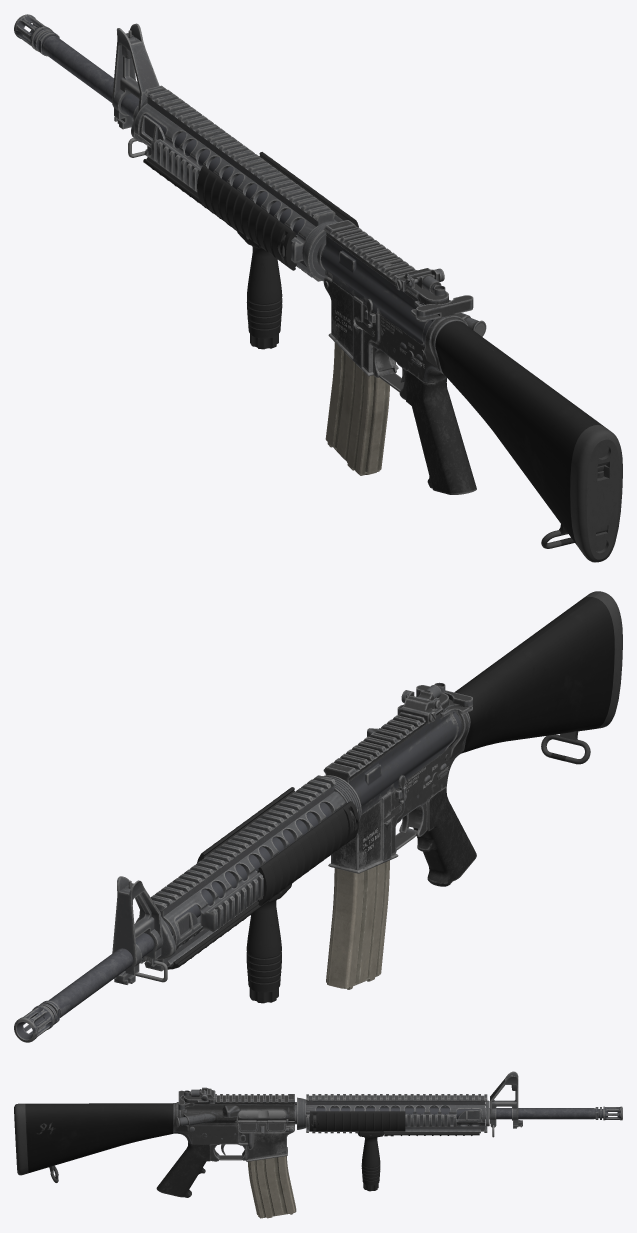
3 renders of one model, top to bottom at view 1: azimuth 30°, elevation 25°; view 2: azimuth 150°, elevation 25°; view 3: azimuth 270°, elevation 25°, orthographic. The views are drawn at different scales.
Parts seen in each view (by area): view 1: recievier, polySurface88, handguard1, polySurface83, polySurface90, polySurface87, polySurface84; view 2: handguard1, recievier, polySurface88, polySurface83, polySurface90, polySurface87, polySurface91, polySurface89, polySurface84; view 3: recievier, polySurface88, handguard1, polySurface83, polySurface84, polySurface87, polySurface91.
Boxes of the visible parts, x1,y1,x2,y2 form: recievier: [321, 220, 486, 494]; polySurface88: [435, 321, 622, 562]; handguard1: [14, 14, 343, 281]; polySurface83: [325, 314, 389, 475]; polySurface90: [197, 166, 296, 270]; polySurface87: [237, 230, 282, 349]; polySurface84: [259, 152, 358, 227]; handguard1: [14, 775, 361, 1042]; recievier: [323, 682, 476, 886]; polySurface88: [454, 591, 622, 753]; polySurface83: [326, 860, 389, 989]; polySurface90: [257, 801, 359, 905]; polySurface87: [246, 884, 291, 1003]; polySurface91: [146, 900, 269, 969]; polySurface89: [541, 731, 590, 764]; polySurface84: [197, 787, 294, 862]; recievier: [156, 1087, 296, 1197]; polySurface88: [14, 1103, 173, 1175]; handguard1: [295, 1071, 622, 1137]; polySurface83: [248, 1156, 296, 1218]; polySurface84: [310, 1111, 405, 1131]; polySurface87: [357, 1131, 384, 1191]; polySurface91: [384, 1132, 479, 1136].
Bounding box in the file's own units: 0.0749 × 0.2551 × 0.9915.
4 materials, 4 textured.
